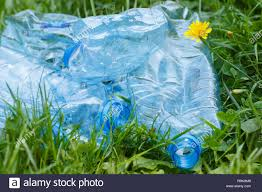bottle: (1, 35, 128, 141), (128, 20, 219, 166), (3, 8, 197, 64)
plastic: (1, 5, 219, 168)
